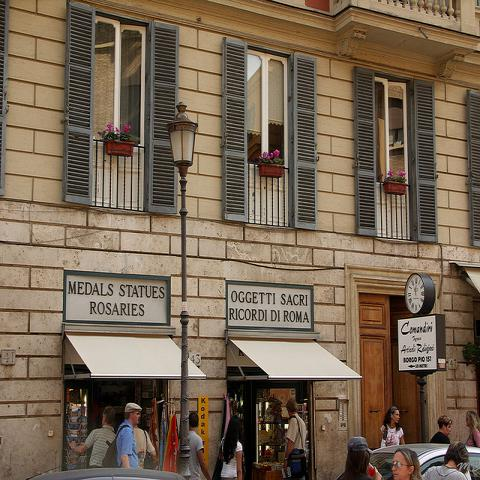car: (335, 443, 479, 479), (27, 466, 188, 480)
